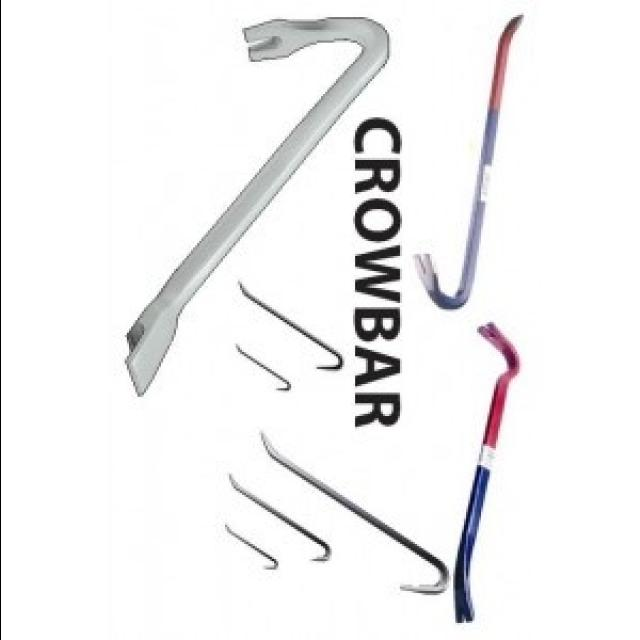Linggis: (126, 16, 389, 397)
